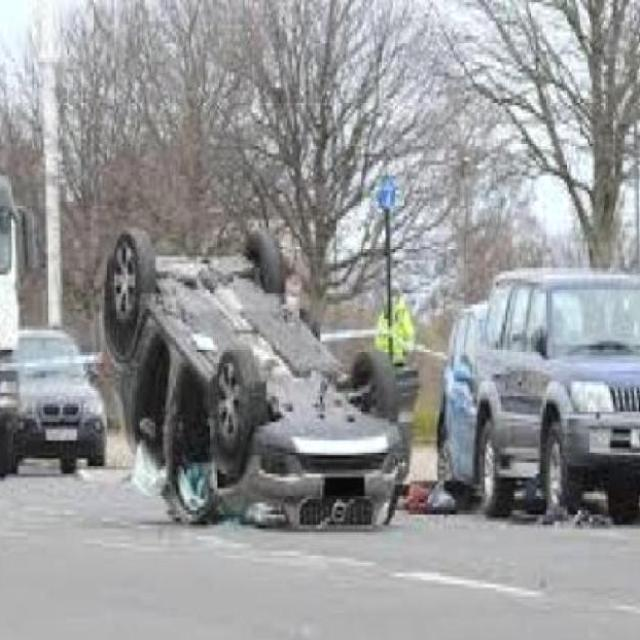accident: (101, 229, 408, 532)
